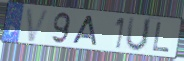1: (113, 17, 126, 50)
9: (51, 11, 72, 45)
A: (70, 15, 98, 47)
L: (151, 21, 172, 54)
U: (124, 16, 154, 54)
V: (24, 7, 52, 43)
